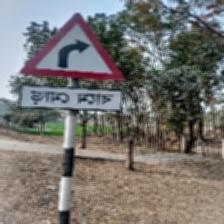Left-Turn: (16, 12, 128, 115)
